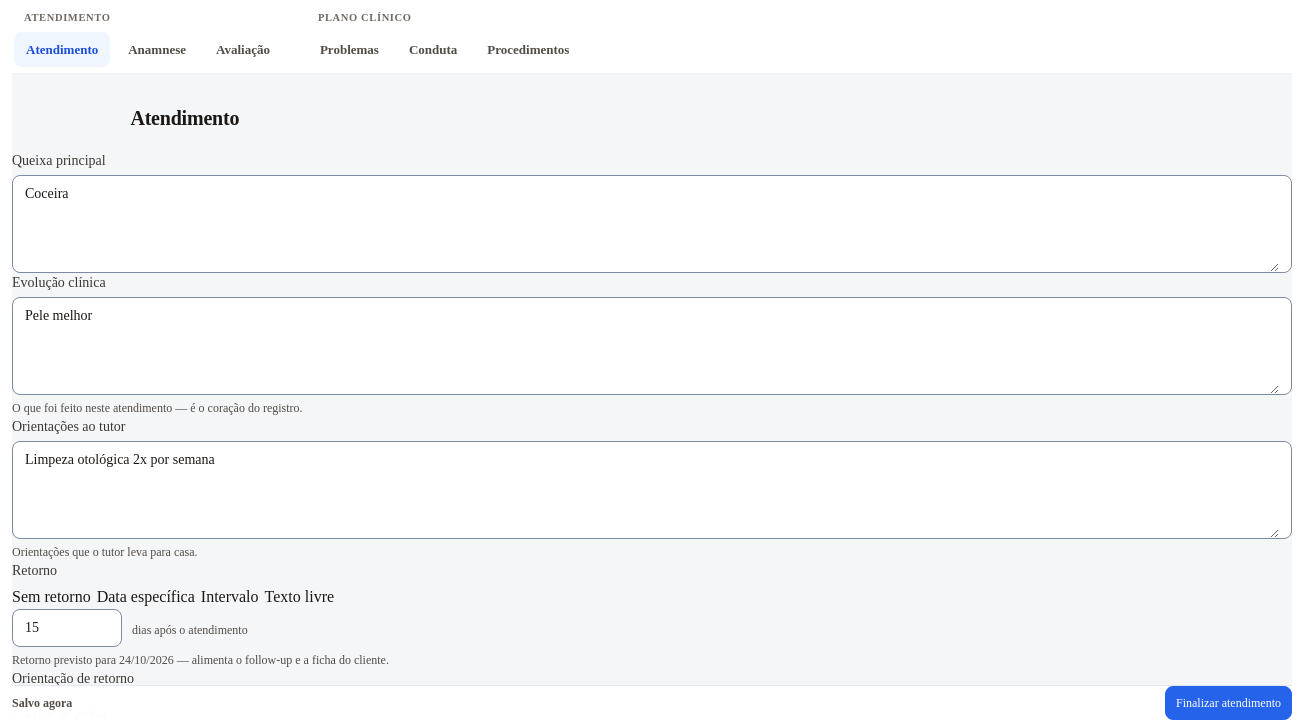
Test case: Conduta × Orientações ao tutor (fonte única) › Conduta mostra orientações e retorno como resumo rotulado, sem segundo editor
Expected: the text box labelled "Orientações ao tutor" is shown, [25,442,1279,538]
Click the button "Conduta" at (433,50), box [397,32,469,67]
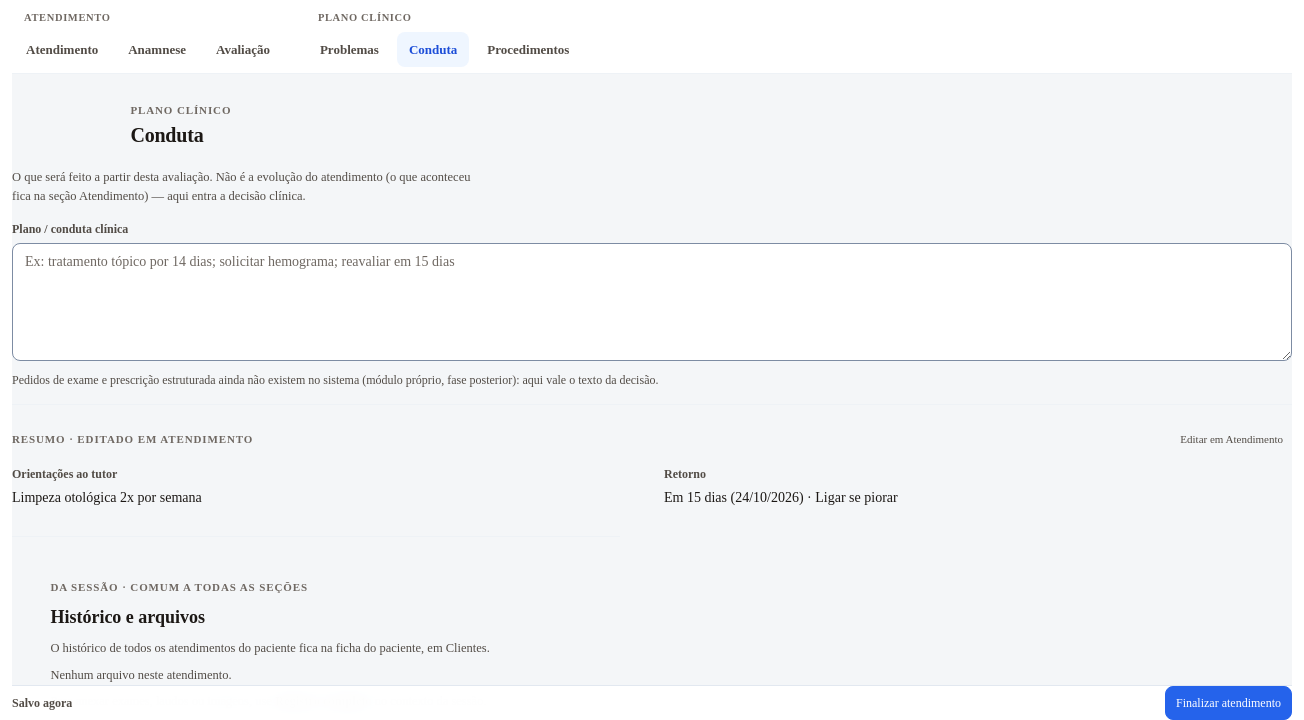
Expected: the element with test id "plan-context" shows "Limpeza otológica 2x por semana", [12,490,202,505]
Expected: the button "Editar em Atendimento" is shown, [1171,425,1292,453]
